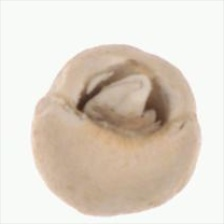L3: (74, 59, 175, 138)
L4: (30, 44, 202, 217)
